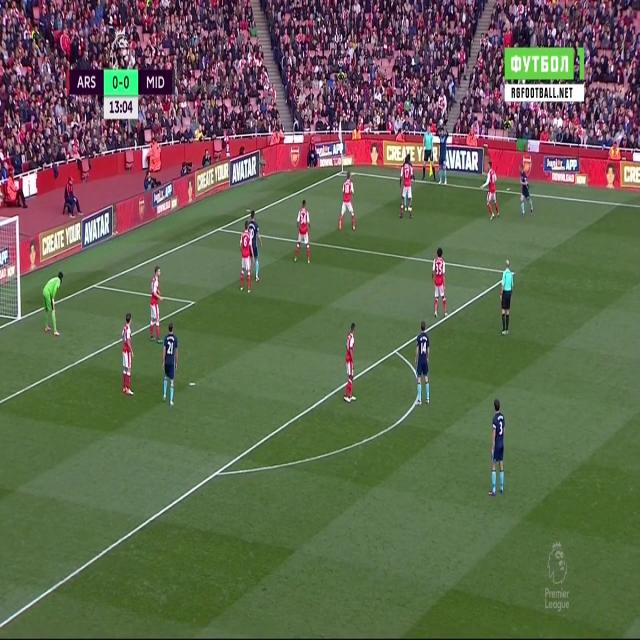Ball: (438, 118, 444, 128)
Player: (484, 396, 508, 501), (412, 319, 432, 410), (160, 321, 180, 410), (41, 268, 64, 340), (340, 319, 358, 406), (291, 197, 313, 264), (147, 263, 164, 346), (478, 161, 501, 222), (120, 309, 135, 402), (248, 208, 265, 285), (431, 245, 448, 321), (337, 172, 357, 234), (398, 158, 416, 220), (516, 162, 535, 219), (238, 219, 252, 296), (436, 126, 449, 184)
Referee: (499, 256, 515, 339), (420, 124, 437, 182)
